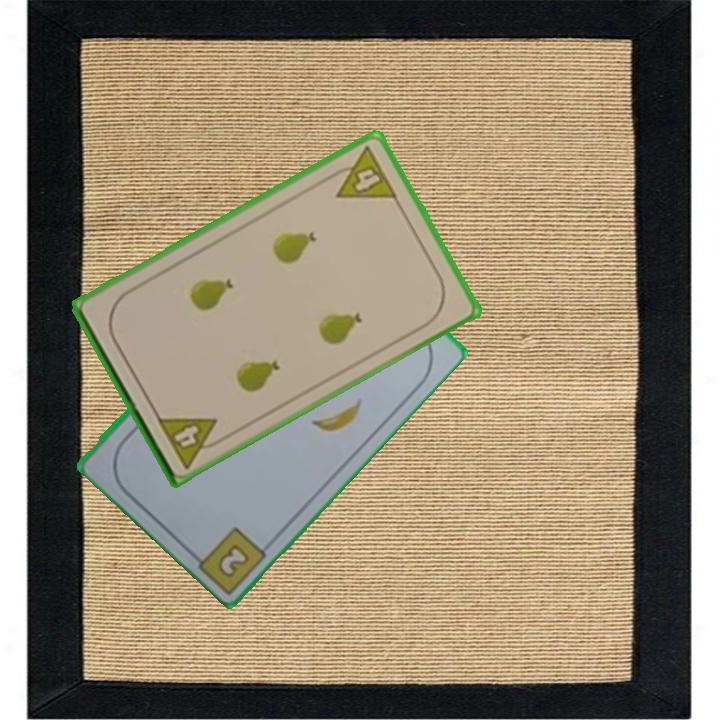2b: (217, 539, 253, 578)
4p: (323, 142, 400, 202), (153, 410, 228, 471)
